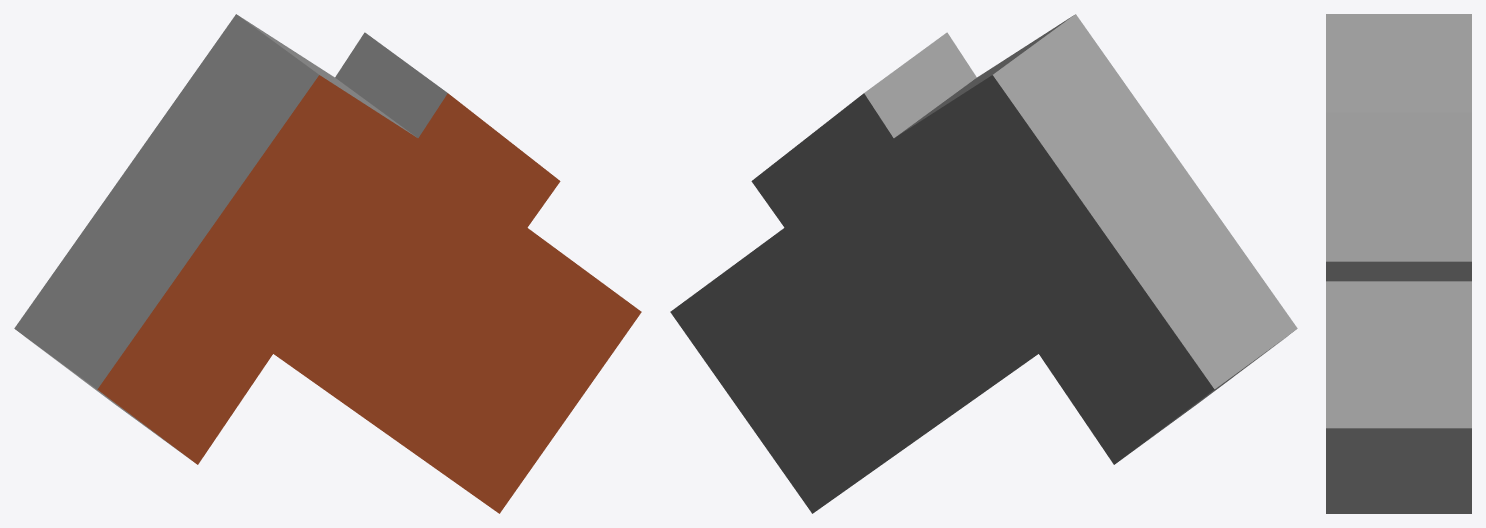
File: construction_3676_assumed_A_Casa_h6m.obj
3 renders of one model, left to right at view 1: azimuth 30°, elevation 25°; view 2: azimuth 150°, elevation 25°; view 3: azimuth 270°, elevation 25°, orthographic. The views are drawn at different scales.
Parts seen in each view (by area): view 1: construction_3676_assumed_A_Casa; view 2: construction_3676_assumed_A_Casa; view 3: construction_3676_assumed_A_Casa.
Part boxes in pixels (x1,y1,x2,y2): construction_3676_assumed_A_Casa: (14,14,641,513); construction_3676_assumed_A_Casa: (670,14,1297,513); construction_3676_assumed_A_Casa: (1326,14,1471,513).
Bounding box in the file's own units: 22.67 × 19.22 × 6.
